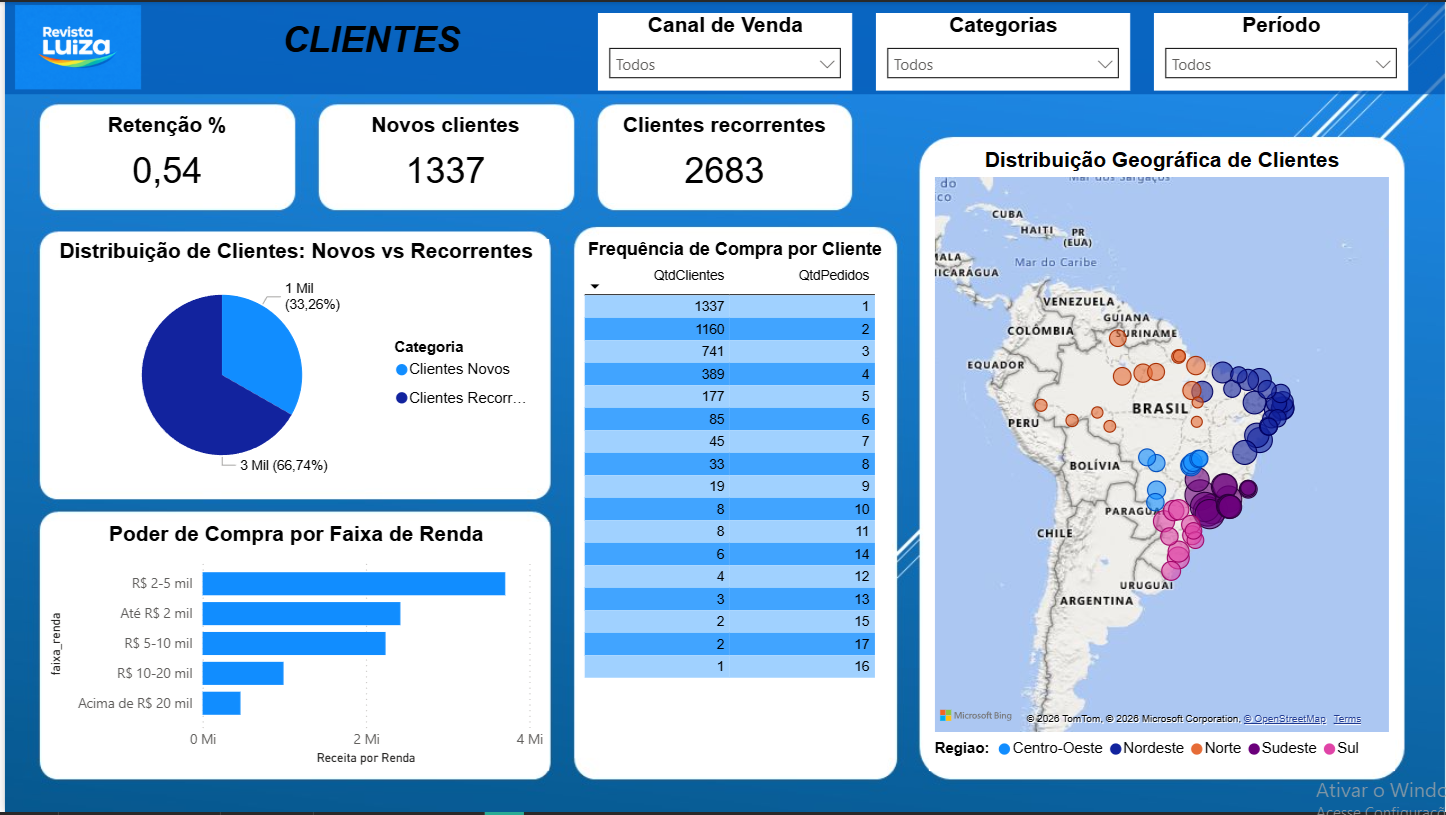

The page's visual inventory and layout, read from the dashboard file:
{"tool":"powerbi","page":{"name":"CLIENTES","canvas":[1280,720],"ordinal":2},"visuals":[{"type":"shape","box":[0,0,1280,82.2],"z":500},{"type":"slicer","title":"Período","fields":{"Values":["pedidos.data_pedido.Variation.Hierarquia de datas.Ano","pedidos.data_pedido.Variation.Hierarquia de datas.Mês"]},"box":[1021.6,10,226.5,68.8],"z":1000},{"type":"image","box":[8,3,114.7,74.8],"z":2000},{"type":"slicer","title":"Categorias","fields":{"Values":["categorias.categoria_nome"]},"box":[774.2,10,226.5,68.8],"z":3000},{"type":"slicer","title":"Canal de Venda","fields":{"Values":["pedidos.canal_venda"]},"box":[526.8,10,226.5,68.8],"z":4000},{"type":"textbox","box":[123.1,10.5,404.2,67.4],"z":5000},{"type":"map","title":"Distribuição Geográfica de Clientes","fields":{"Category":["clientes.cidade"],"Series":["clientes.regiao"],"Size":["categorias.Total Clientes"]},"box":[821.4,130,414.2,553.3],"z":6000},{"type":"pieChart","title":"Distribuição de Clientes: Novos vs Recorrentes","fields":{"Y":["categorias.Clientes Novos","categorias.Clientes Recorrentes"]},"box":[34.3,210.6,448.5,220.7],"z":7000},{"type":"clusteredBarChart","title":"Poder de Compra por Faixa de Renda","fields":{"Category":["clientes.faixa_renda"],"Y":["categorias.Receita por Renda"]},"box":[34.3,462.6,448.5,220.7],"z":8000},{"type":"tableEx","title":"Frequência de Compra por Cliente","fields":{"Values":["Resumo Clientes por Pedidos.QtdClientes","Resumo Clientes por Pedidos.QtdPedidos"]},"box":[509,210.6,279.2,419.3],"z":9000},{"type":"card","title":"Retenção %","fields":{"Values":["categorias.% Retenção"]},"box":[39.5,98.7,210.2,80.1],"z":10000},{"type":"card","title":"Novos clientes","fields":{"Values":["categorias.Clientes Novos"]},"box":[286.2,98.8,210.6,79.6],"z":11000},{"type":"card","title":"Clientes recorrentes","fields":{"Values":["categorias.Clientes Recorrentes"]},"box":[534.2,98.8,210.6,79.6],"z":12000}]}

Visuals, with their boxes on the page's 1280x720 design canvas (x1, y1, x2, y2). These are canvas units, not pixel positions in the 1446x815 screenshot, which may show the page scaled, cropped or inside an application window:
shape: box(0, 0, 1280, 82)
"Período" slicer: box(1022, 10, 1248, 79)
image: box(8, 3, 123, 78)
"Categorias" slicer: box(774, 10, 1001, 79)
"Canal de Venda" slicer: box(527, 10, 753, 79)
textbox: box(123, 10, 527, 78)
"Distribuição Geográfica de Clientes" map: box(821, 130, 1236, 683)
"Distribuição de Clientes: Novos vs Recorrentes" pieChart: box(34, 211, 483, 431)
"Poder de Compra por Faixa de Renda" clusteredBarChart: box(34, 463, 483, 683)
"Frequência de Compra por Cliente" tableEx: box(509, 211, 788, 630)
"Retenção %" card: box(40, 99, 250, 179)
"Novos clientes" card: box(286, 99, 497, 178)
"Clientes recorrentes" card: box(534, 99, 745, 178)
